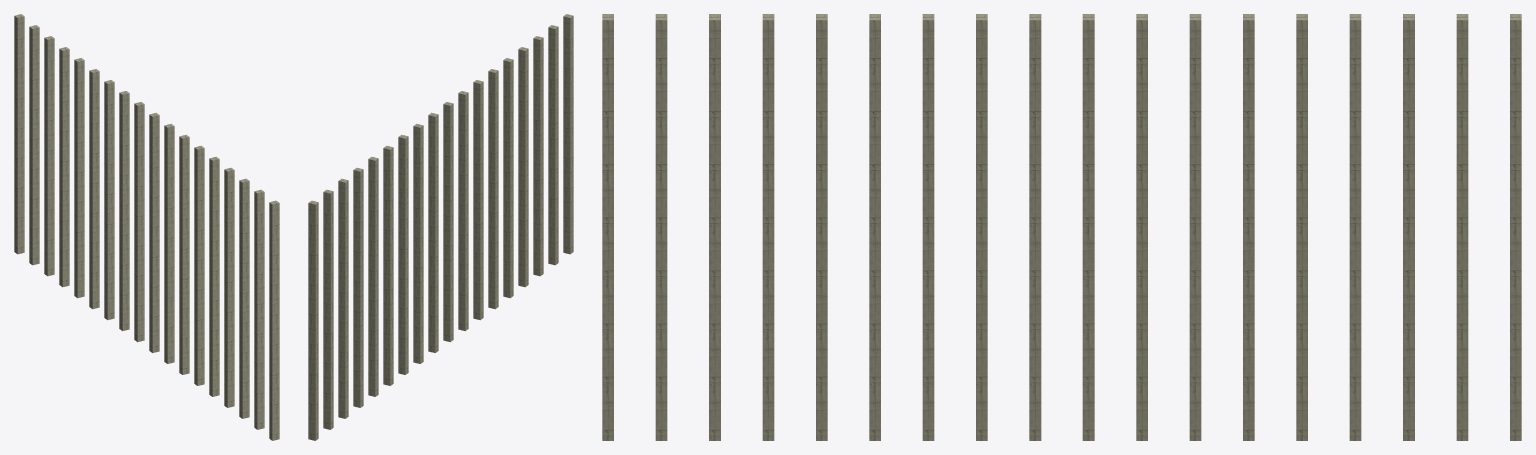
The model's file is SM_Republic_09_00.fbx.
3 renders of one model, left to right at view 1: azimuth 30°, elevation 25°; view 2: azimuth 150°, elevation 25°; view 3: azimuth 270°, elevation 25°, orthographic. The views are drawn at different scales.
Visible parts, largest first — view 1: SM_Republic_09_00; view 2: SM_Republic_09_00; view 3: SM_Republic_09_00.
Boxes of the visible parts, <box> form: SM_Republic_09_00: <box>14,14,279,440</box>; SM_Republic_09_00: <box>308,14,573,440</box>; SM_Republic_09_00: <box>602,14,1521,440</box>.
Size of the model in its own units: 260 by 8194 by 16224.
